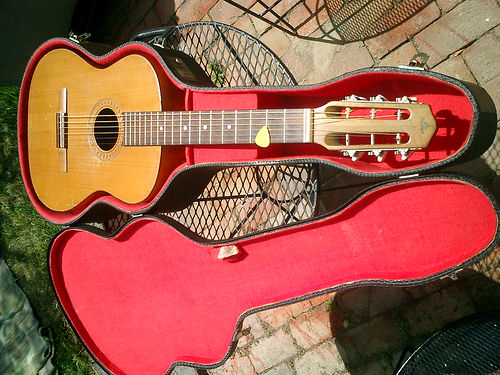guitar: (29, 46, 435, 212)
